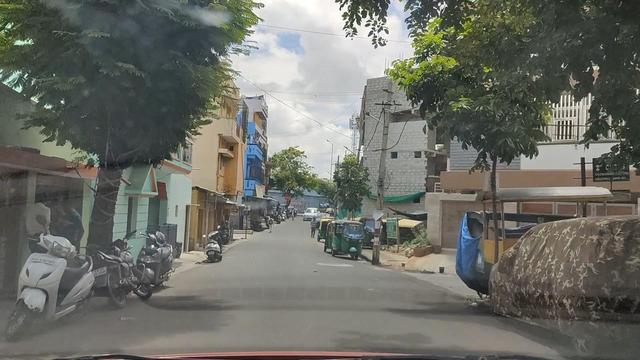LMV: (324, 219, 364, 258)
